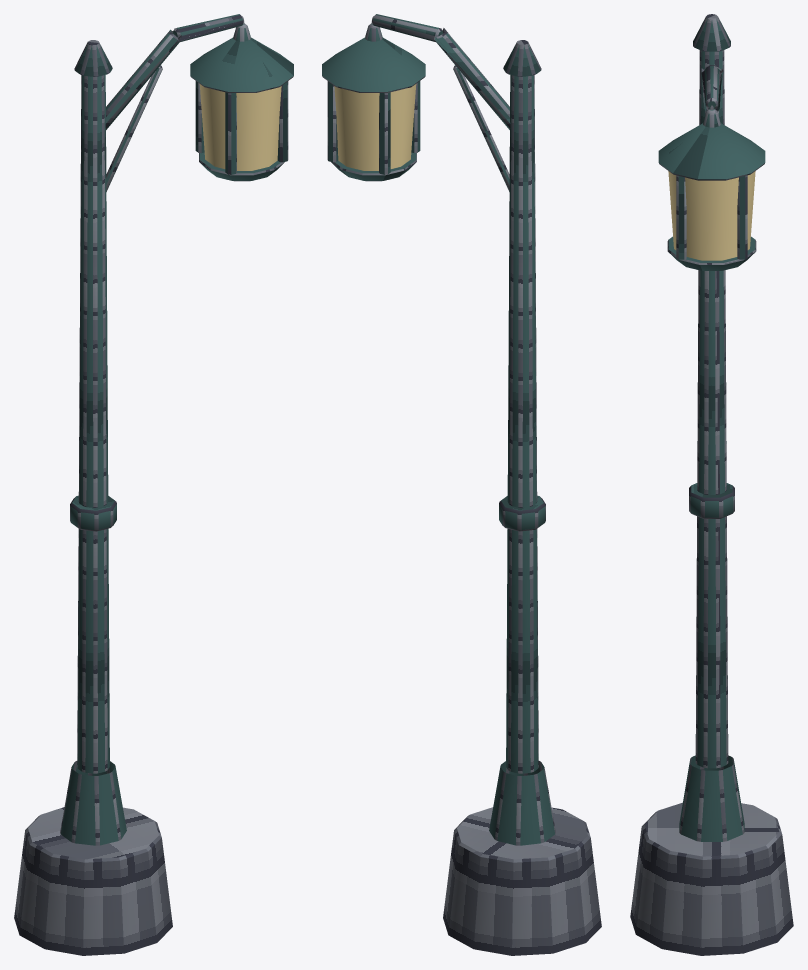
File: street_lamp_5.glb
3 renders of one model, left to right at view 1: azimuth 30°, elevation 25°; view 2: azimuth 150°, elevation 25°; view 3: azimuth 270°, elevation 25°, orthographic. The views are drawn at different scales.
Parts seen in each view (by area): view 1: street_lamp_6; view 2: street_lamp_6; view 3: street_lamp_6.
Boxes of the visible parts, <box> form: street_lamp_6: <box>14,14,293,955</box>; street_lamp_6: <box>322,14,601,955</box>; street_lamp_6: <box>630,14,793,955</box>.
Bounding box in the file's own units: 1.06 × 3.39 × 0.5552.
Materials: 3 (3 with a texture image).
